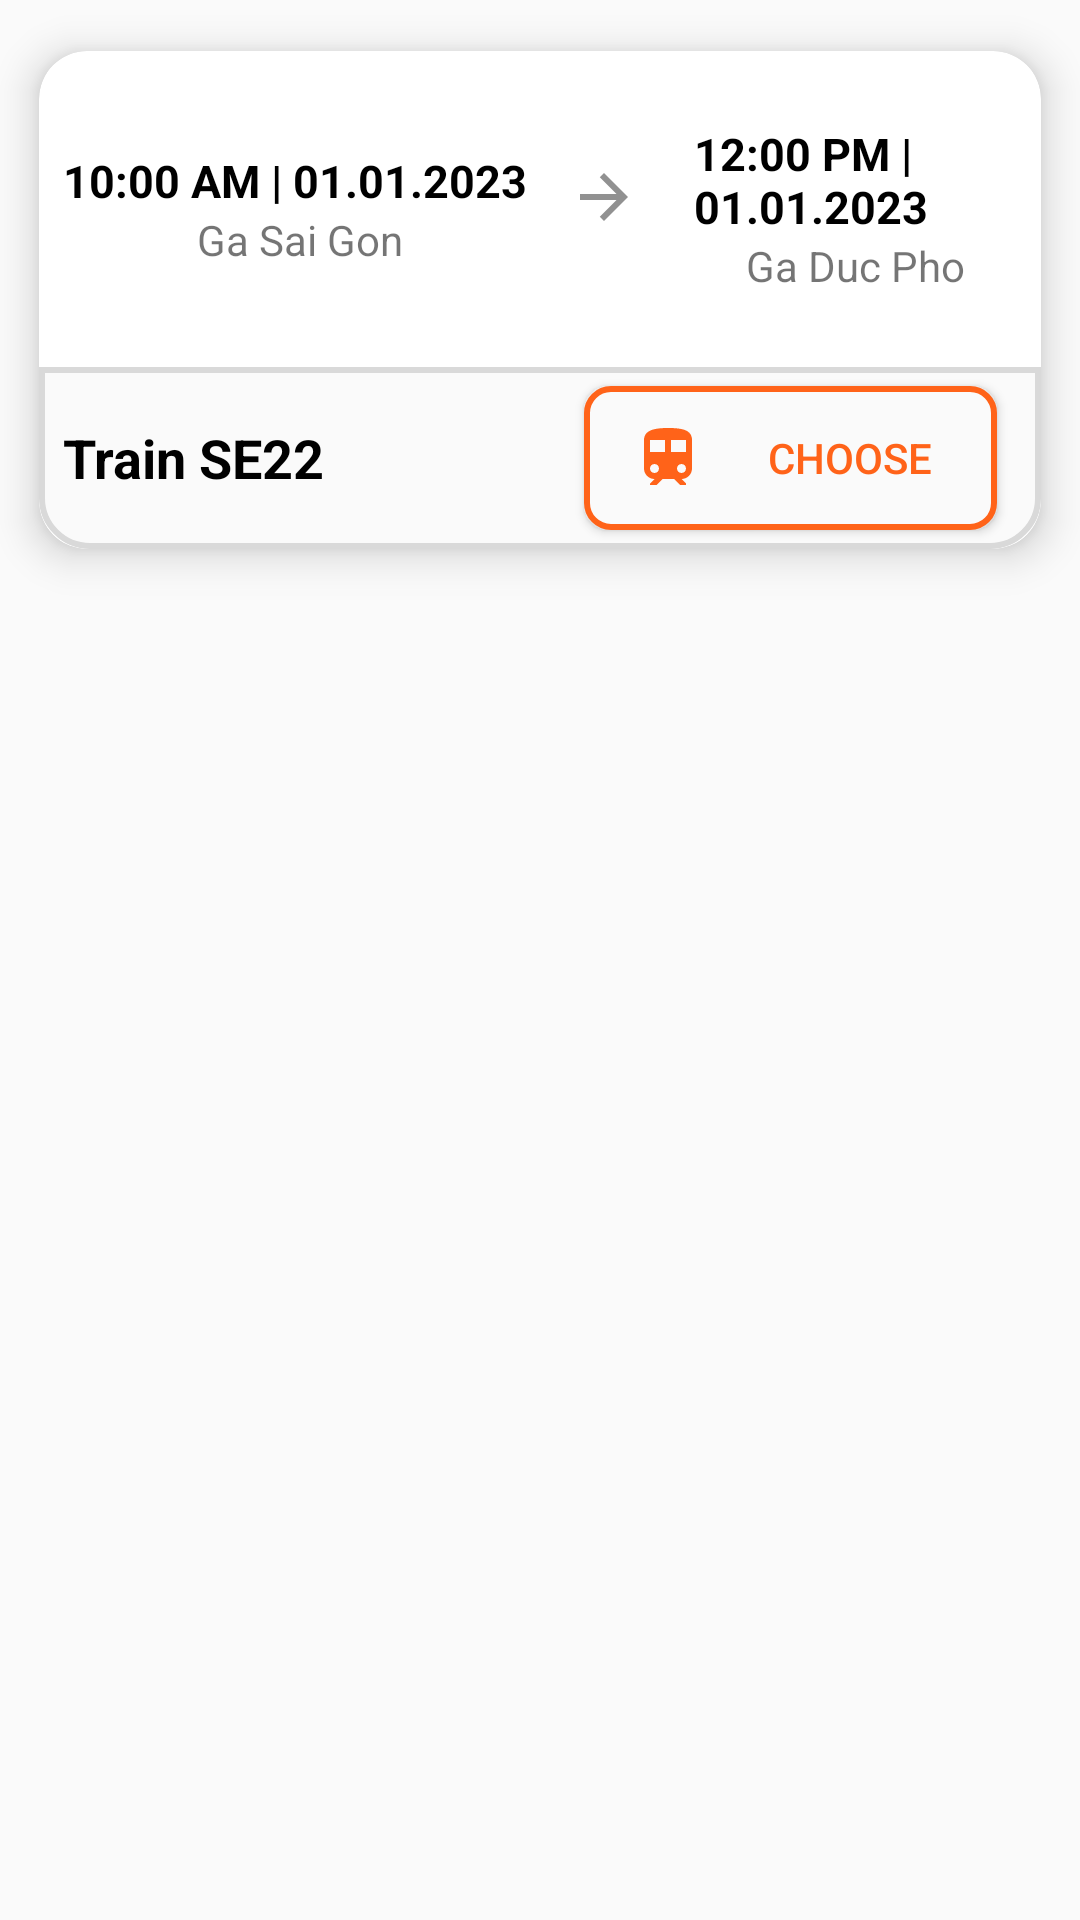

Icons on this 1080x1920 Android screen, each with its box as (x1, y1, x2, y2):
arrow forward: (580, 173, 628, 221)
